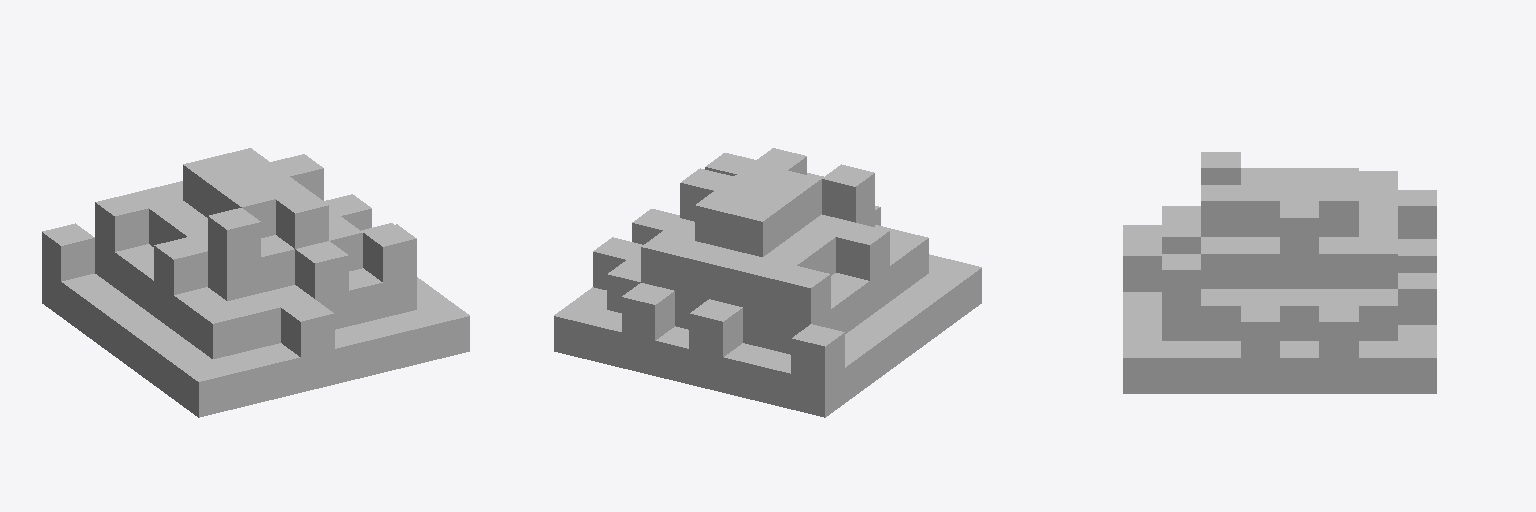
File: rock.obj
3 views of the same model, side by side, from view 1: azimuth 30°, elevation 25°; view 2: azimuth 150°, elevation 25°; view 3: azimuth 270°, elevation 25° (orthographic).
Parts seen in each view (by area): view 1: object 1; view 2: object 1; view 3: object 1.
Boxes of the visible parts, box(x1,y1,x2,y2) form: object 1: box(42, 148, 469, 417); object 1: box(554, 148, 981, 417); object 1: box(1123, 152, 1436, 393).
Bounding box in the file's own units: 0.8 × 0.4 × 0.8.